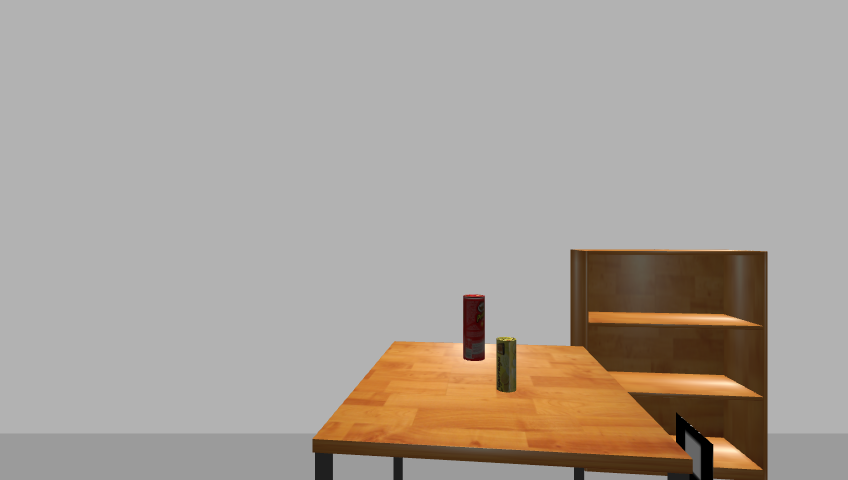aruco marker: (671, 413, 718, 480)
biscuits pack: (496, 337, 518, 394)
bookshelf: (566, 247, 774, 480)
dinner table: (306, 340, 698, 480)
pringles can: (460, 293, 487, 363)
